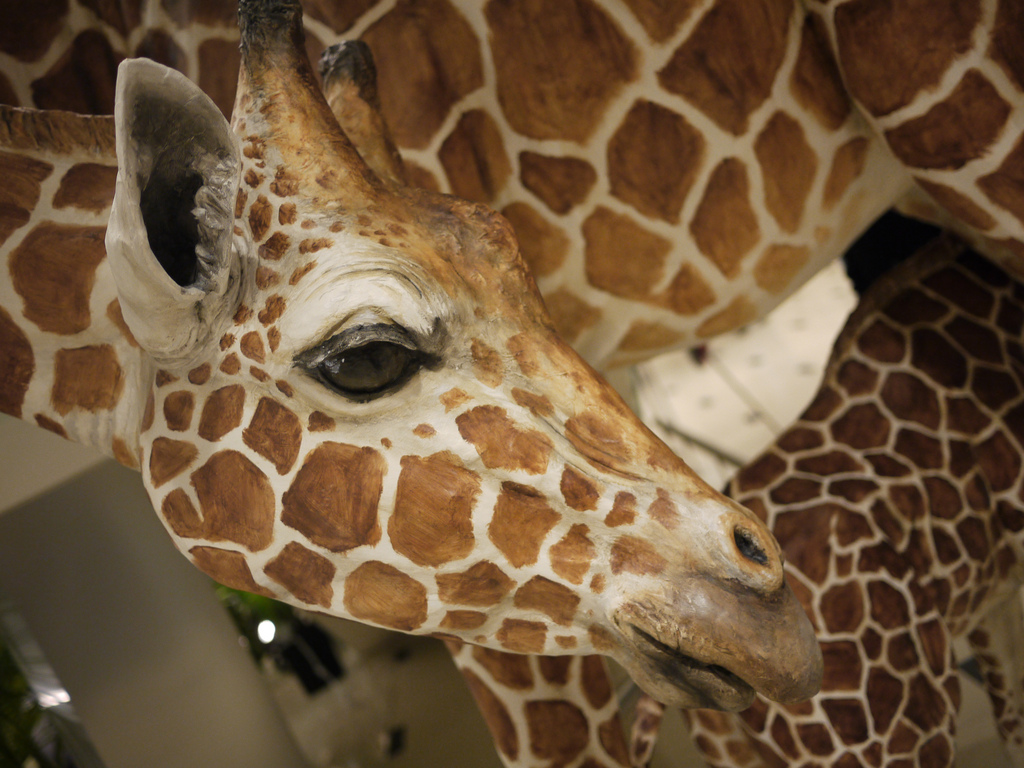giraffe: (65, 66, 830, 710)
